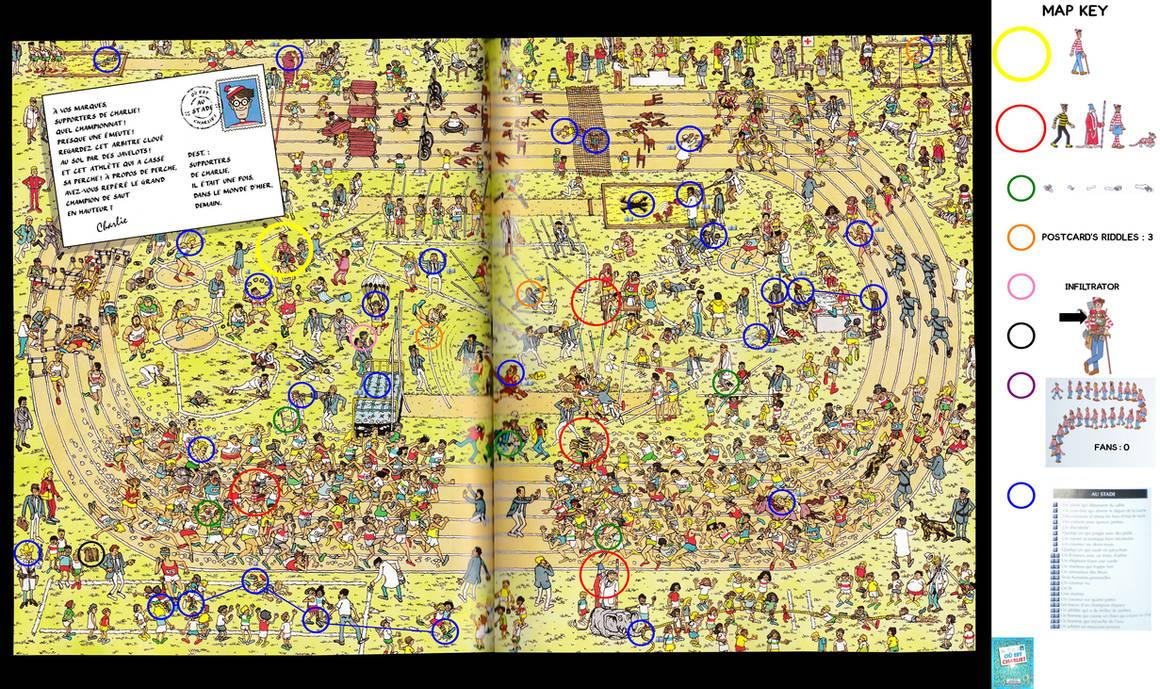waldo: (1092, 297, 1108, 330), (1071, 29, 1087, 60), (278, 234, 293, 256), (1113, 105, 1124, 131)
